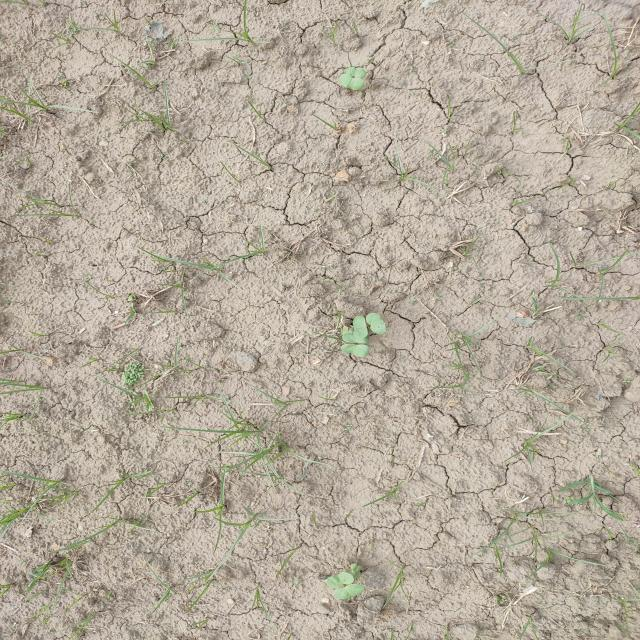seedling_s2: (333, 584, 364, 599), (366, 313, 386, 335), (327, 572, 354, 588), (339, 74, 364, 90), (341, 344, 369, 357), (353, 315, 368, 339), (342, 333, 368, 343), (345, 67, 367, 77), (345, 568, 361, 578), (351, 564, 362, 572), (342, 326, 349, 335), (349, 328, 354, 333)
